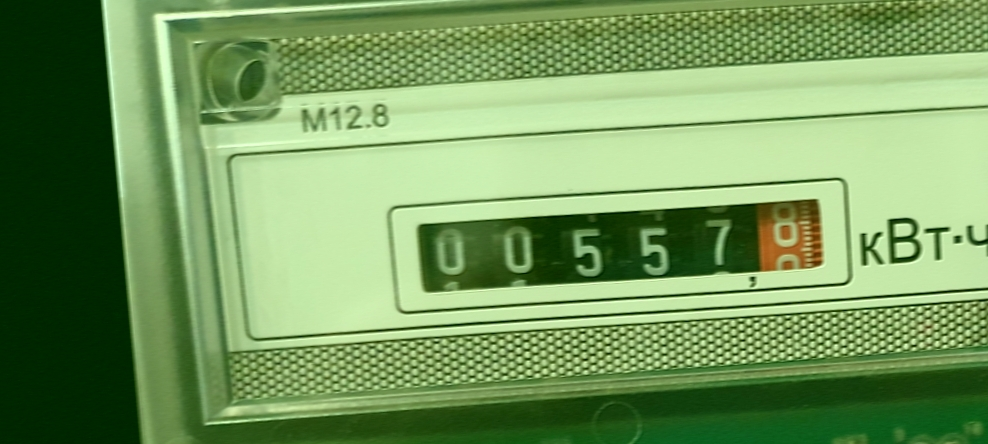0: (429, 221, 469, 280), (498, 221, 536, 276)
5: (632, 218, 675, 279), (566, 221, 606, 281)
7: (698, 212, 735, 269)
8: (768, 199, 800, 250)
screen: (381, 157, 859, 329)
